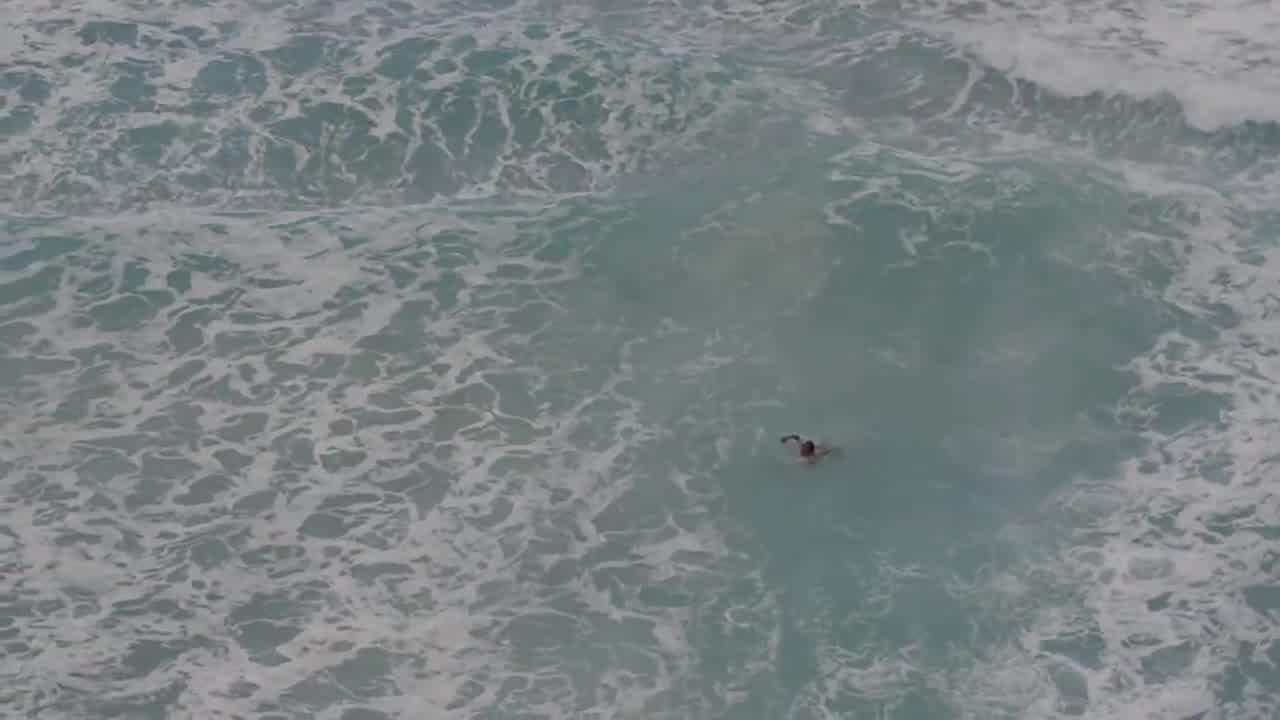swimmer: (774, 409, 850, 484)
